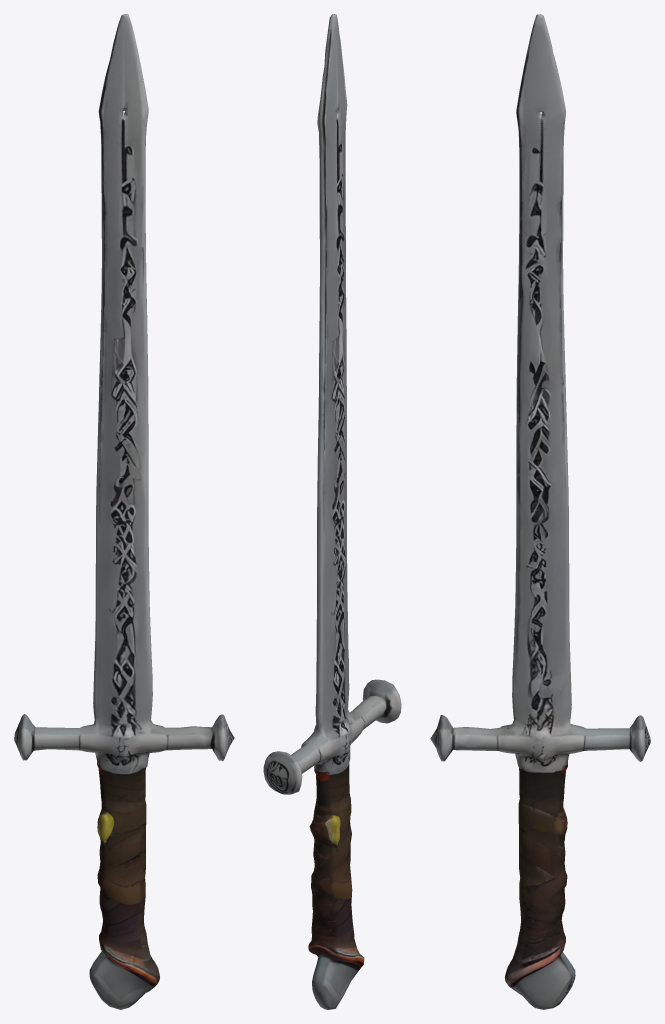
File: wpn_ironsword.glb
The picture shows the model from 3 angles, left to right: view 1: azimuth 90°, elevation 25°; view 2: azimuth 150°, elevation 25°; view 3: azimuth 270°, elevation 25°; orthographic projection.
Parts seen in each view (by area): view 1: tripo_node_2952fb9d-4f2e-4cc8-9805-dfc67d369d94; view 2: tripo_node_2952fb9d-4f2e-4cc8-9805-dfc67d369d94; view 3: tripo_node_2952fb9d-4f2e-4cc8-9805-dfc67d369d94.
Part boxes in pixels (x1,y1,x2,y2): tripo_node_2952fb9d-4f2e-4cc8-9805-dfc67d369d94: (14,14,234,1009); tripo_node_2952fb9d-4f2e-4cc8-9805-dfc67d369d94: (263,14,401,1009); tripo_node_2952fb9d-4f2e-4cc8-9805-dfc67d369d94: (430,14,650,1009).
Size of the model in its own units: 0.0478 by 0.9997 by 0.2007.
1 material, 1 textured.
